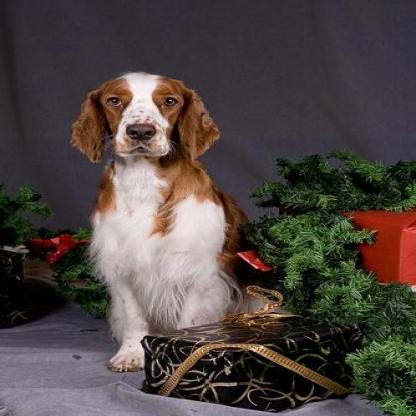Welsh_springer_spaniel: (58, 66, 298, 374)
